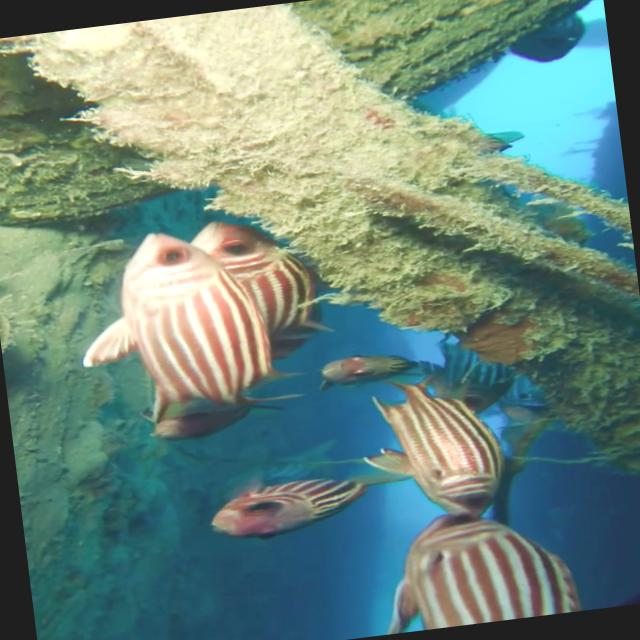Asker Baligi: (67, 212, 317, 450), (353, 376, 541, 534)
